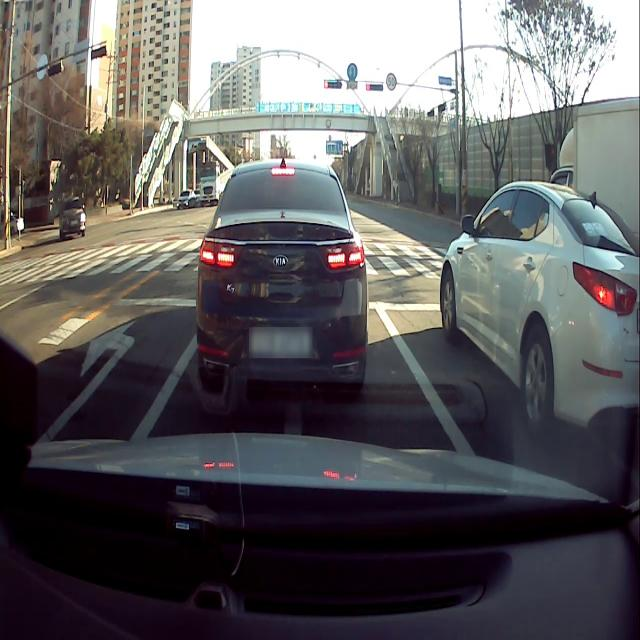Red Light: (323, 79, 329, 89), (366, 83, 370, 91)
